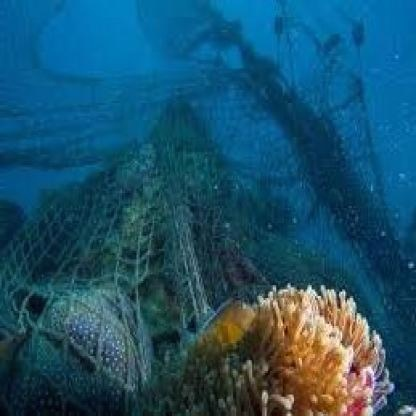net: (2, 138, 175, 390)
